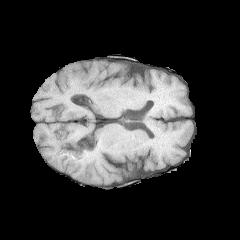glioma: (57, 143, 96, 173)
